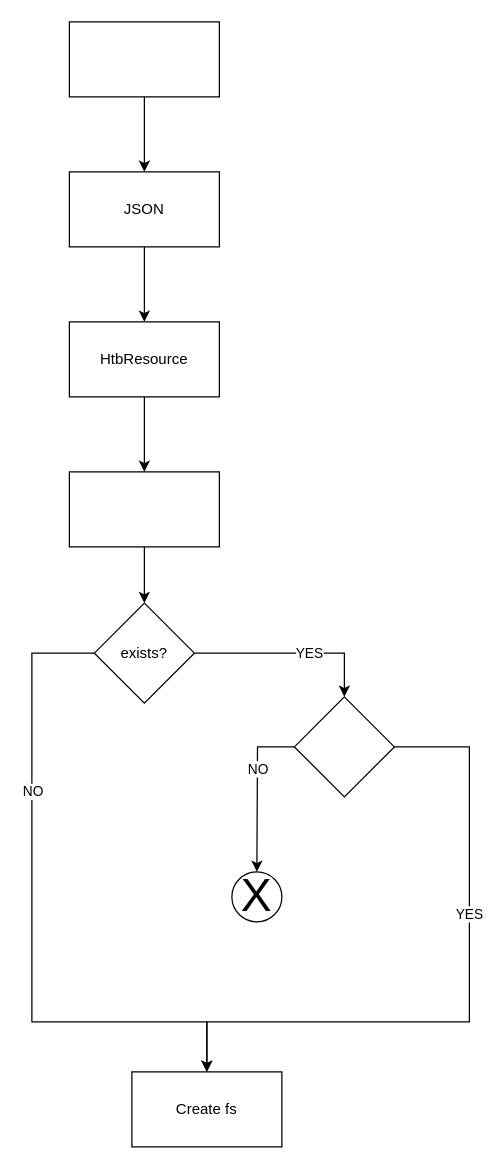
Some shapes in this 504 by 1169 pixel diagram are drawn without their labels. The centre of each missing label's shape, as x and y in pixels:
"add_resource()" belongs at point 143,509.
"JS parser" belongs at point 143,59.
"overwrite?" belongs at point 343,746.
